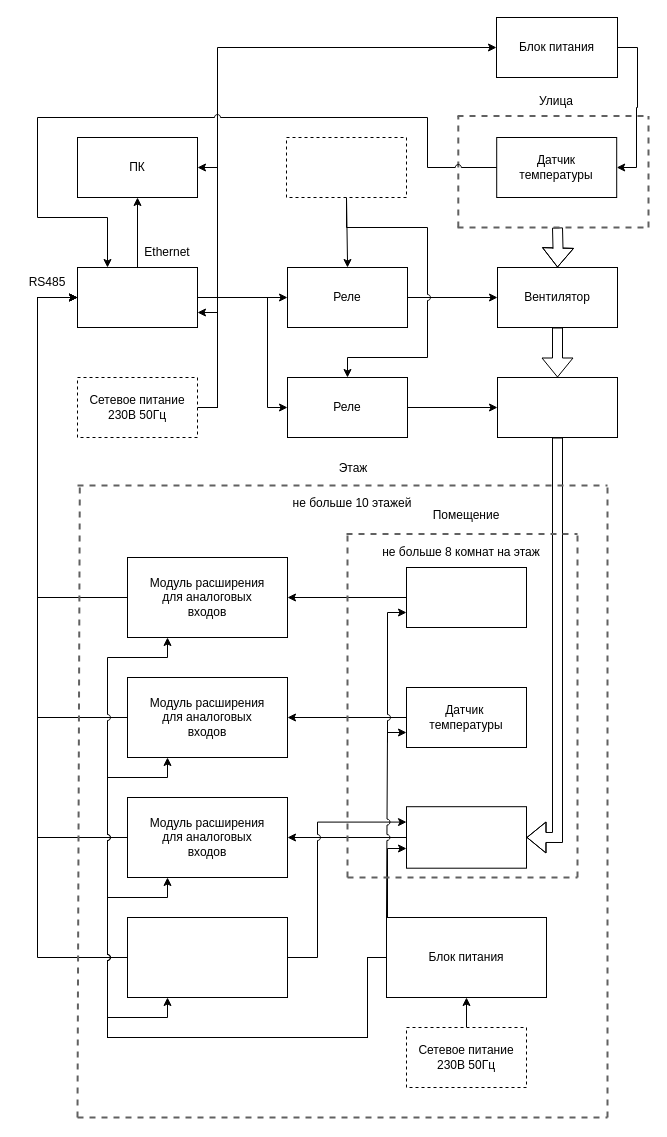
Some shapes in this 667 by 1137 pixel diagram are drawn without their labels. Each missing label, with the centre of its shape:
"VAV-канал" goes at [466,837].
"Датчик уровня CO2" goes at [466,597].
"Калорифер" goes at [557,407].
"Модуль расширения для аналоговых выходов" goes at [207,957].
"ПЛК" goes at [137,297].
"Сетевое питание 400В 50Гц" goes at [346,167].
